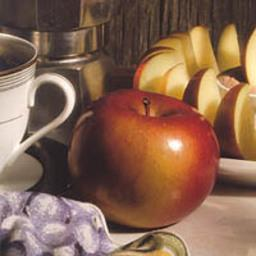apple: (67, 90, 223, 233)
